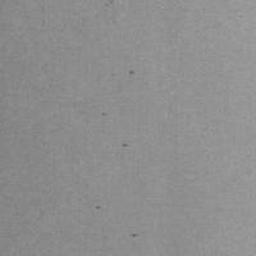Inclusion: (128, 69, 136, 76), (120, 142, 129, 148), (93, 204, 102, 210), (101, 111, 108, 118), (131, 232, 138, 238)
